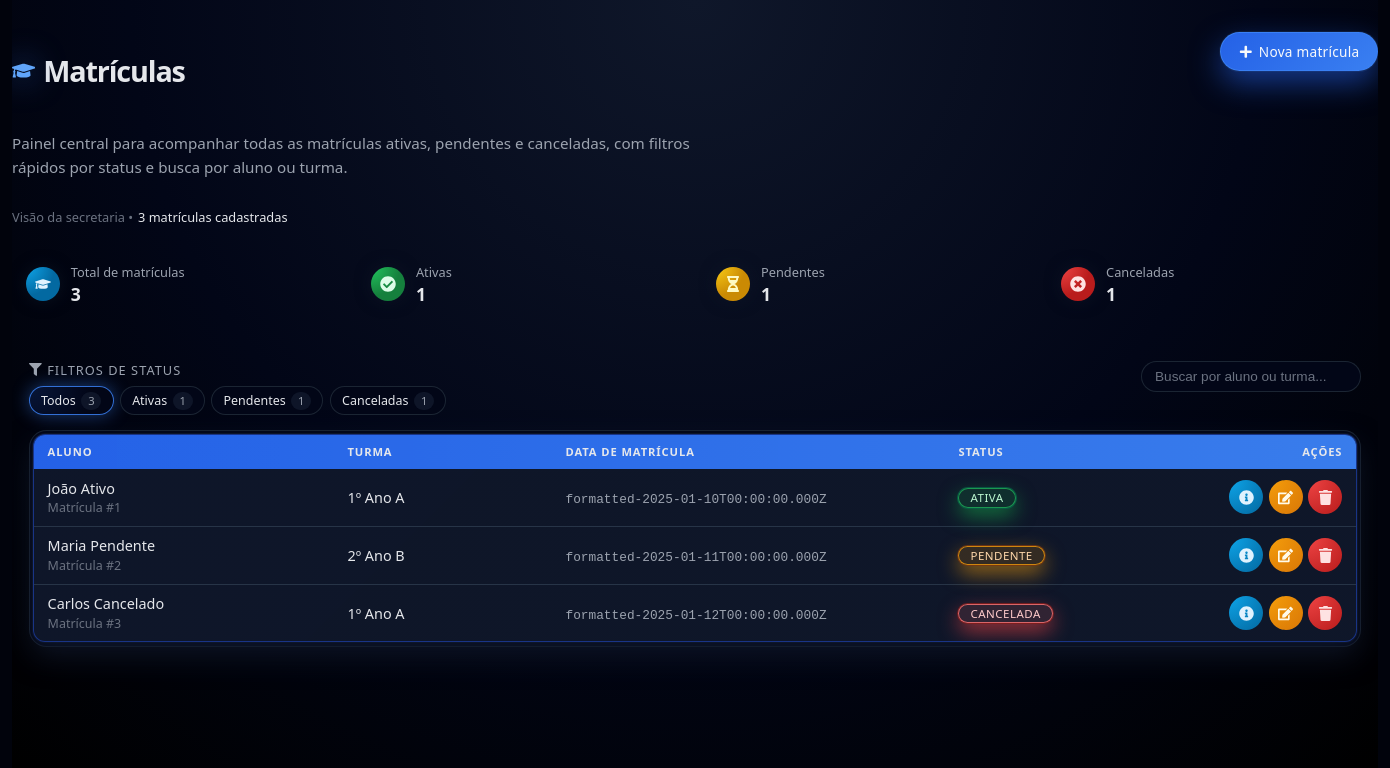
Test case: EnrollmentsPage (dashboard) › filtra por status "Canceladas"
This screenshot has width=1390, height=768.
Click the button "Canceladas 1" at (388, 400), box left=330, top=386, right=446, bottom=415
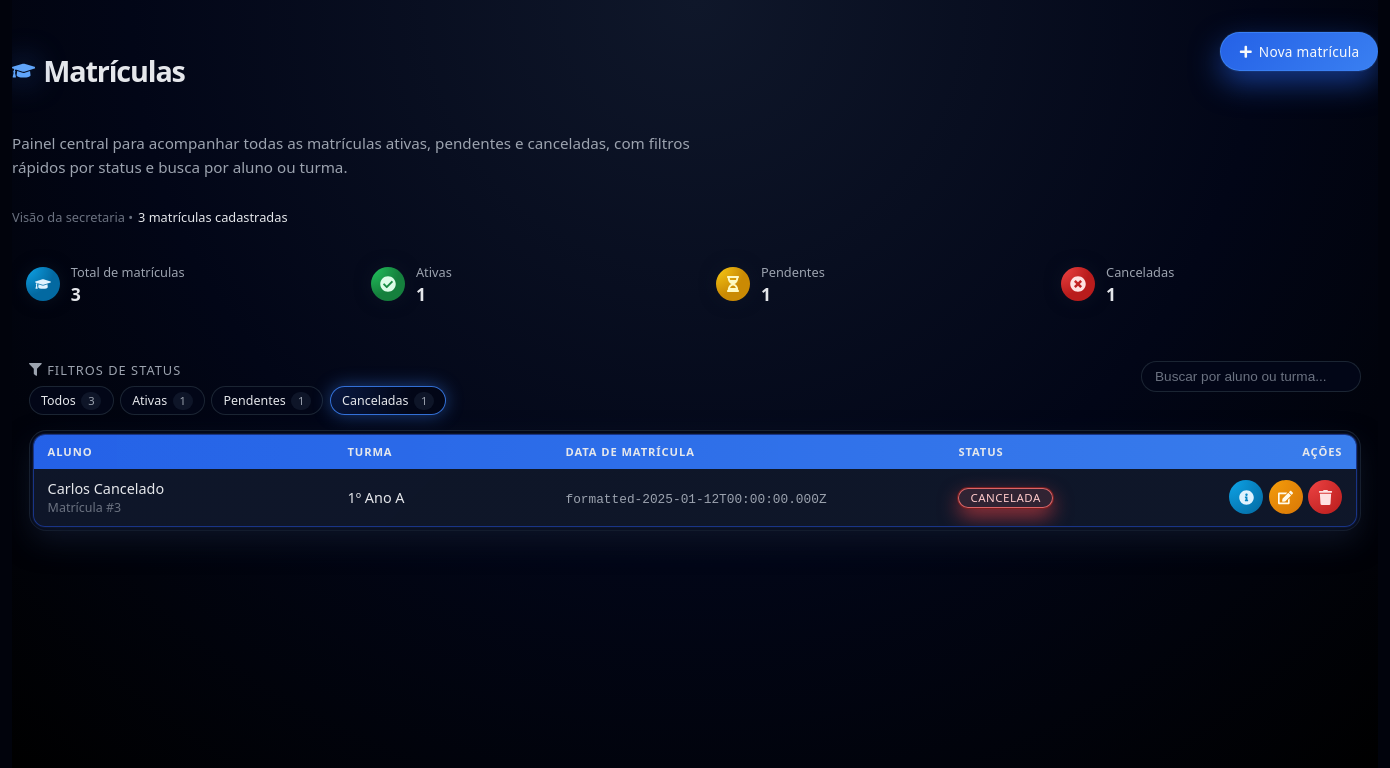
Expected: the text "Carlos Cancelado" is shown, left=48, top=479, right=164, bottom=498
Expected: the text "João Ativo" is gone
Expected: the text "Maria Pendente" is gone
